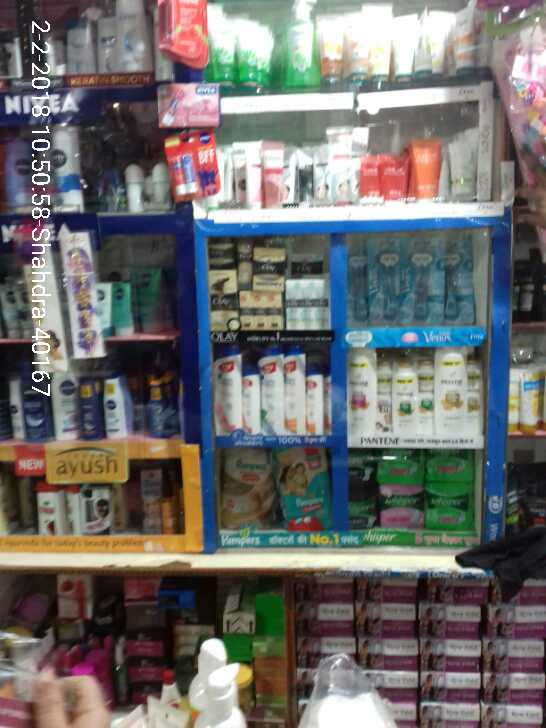venus: (371, 240, 409, 322), (409, 240, 446, 320), (446, 238, 476, 320), (347, 249, 371, 322)
